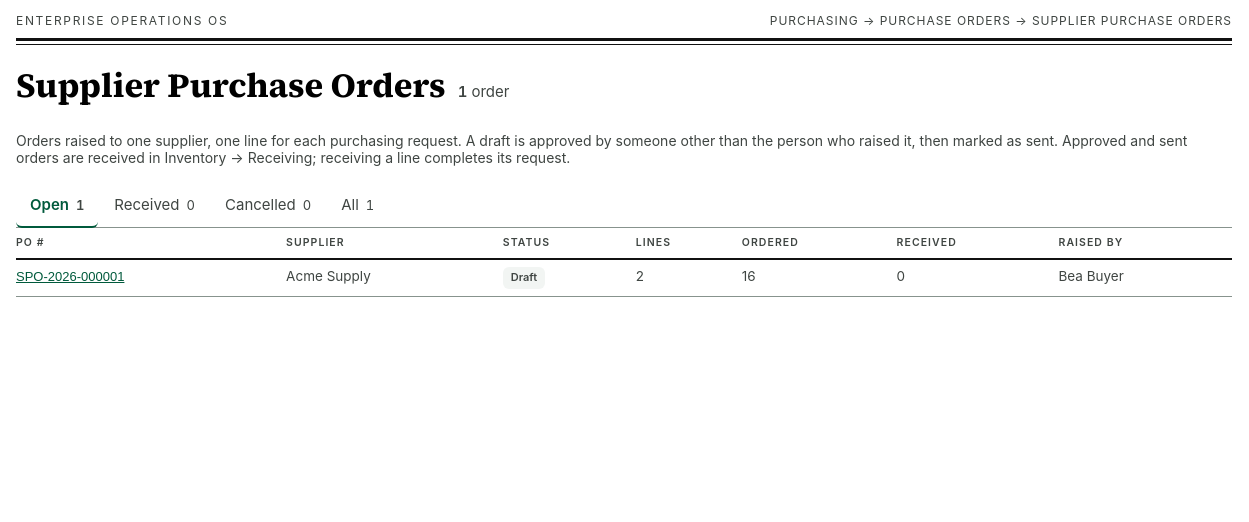
Scenario: controls are offered only to capability holders, narrowed by the server's own flags › a reader with no action capability sees the order and no control
Step 1. Click the button "SPO-2026-000001" → x=70, y=277, box left=16, top=269, right=124, bottom=284
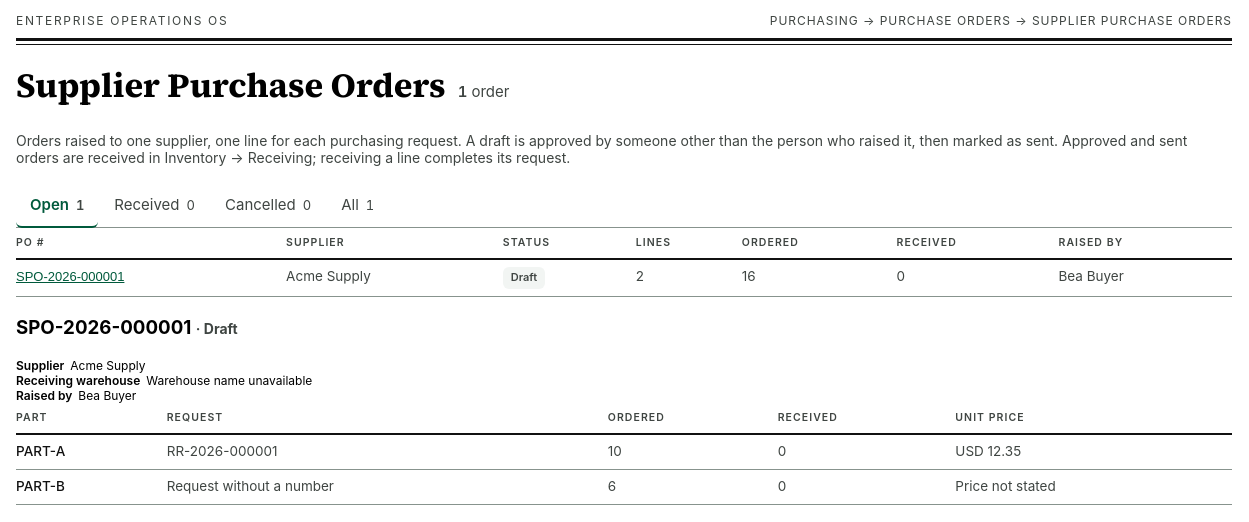
expect the element named "Order SPO-2026-000001" is shown: met, box left=16, top=297, right=1232, bottom=505
expect the text "USD 12.35" is shown: met, box left=955, top=434, right=1232, bottom=470
expect the text "Price not stated" is shown: met, box left=955, top=470, right=1232, bottom=504
